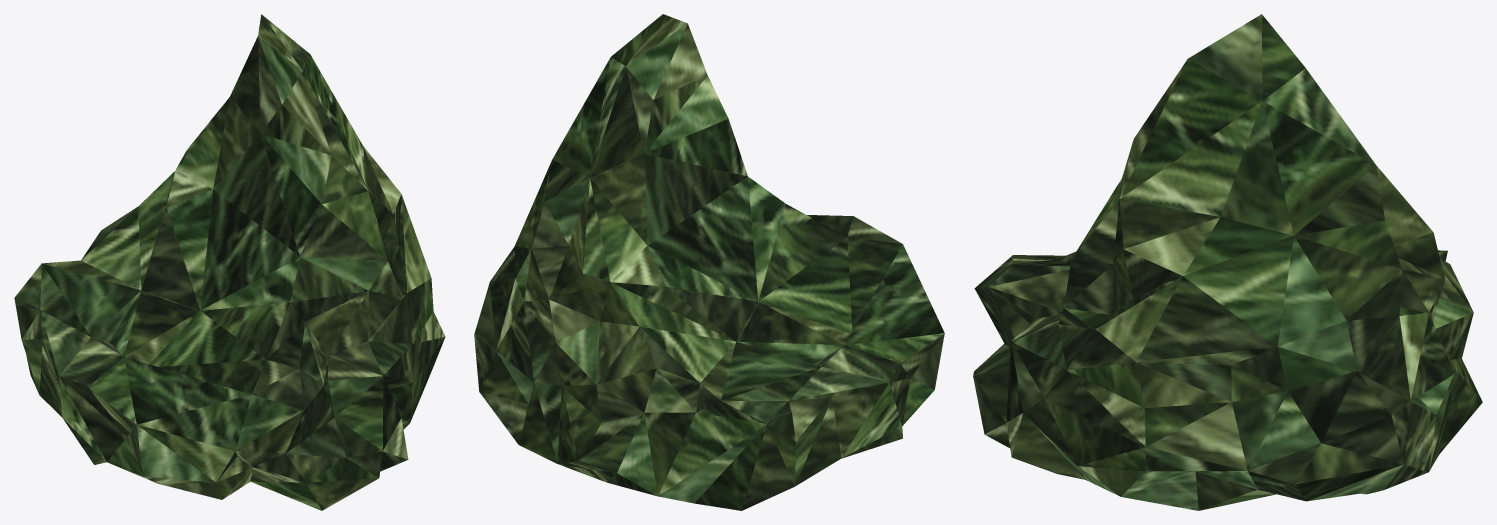
Rendered from meteor_green_flow_shard_01.glb.
3 views of the same model, side by side, from view 1: azimuth 30°, elevation 25°; view 2: azimuth 150°, elevation 25°; view 3: azimuth 270°, elevation 25° (orthographic). The views are drawn at different scales.
Visible parts, largest first — view 1: Mesh1.001; view 2: Mesh1.001; view 3: Mesh1.001.
Boxes of the visible parts, bbox=[...] form: Mesh1.001: bbox=[14, 14, 445, 510]; Mesh1.001: bbox=[474, 14, 944, 510]; Mesh1.001: bbox=[973, 14, 1482, 510].
Bounding box in the file's own units: 2.42 × 2.65 × 2.62.
1 material, 1 textured.
